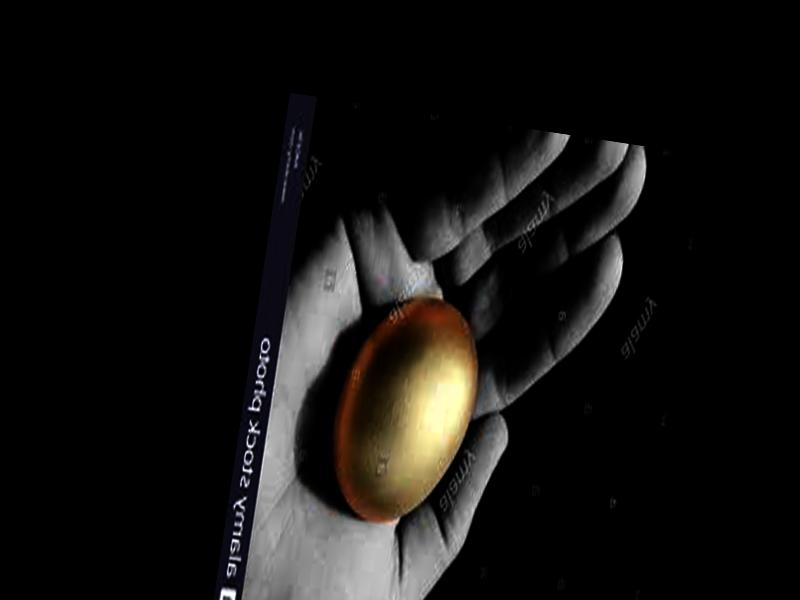Eggs: (323, 286, 489, 531)
